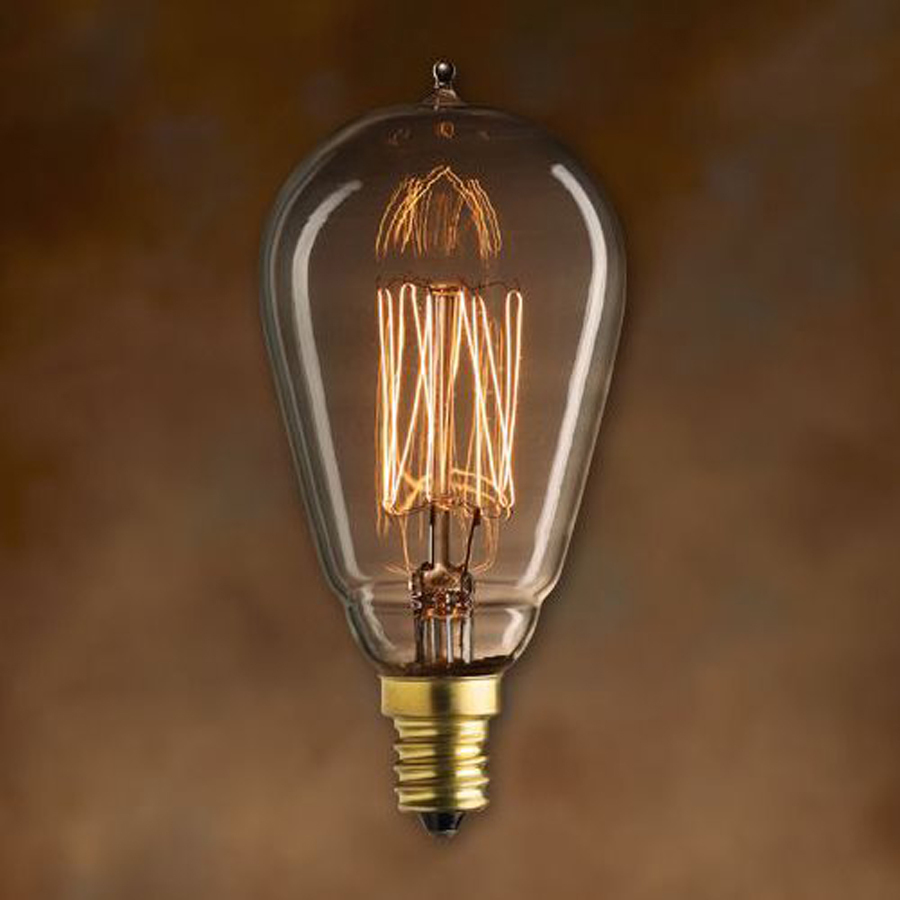Nonrec_Glass: (252, 44, 666, 842)
